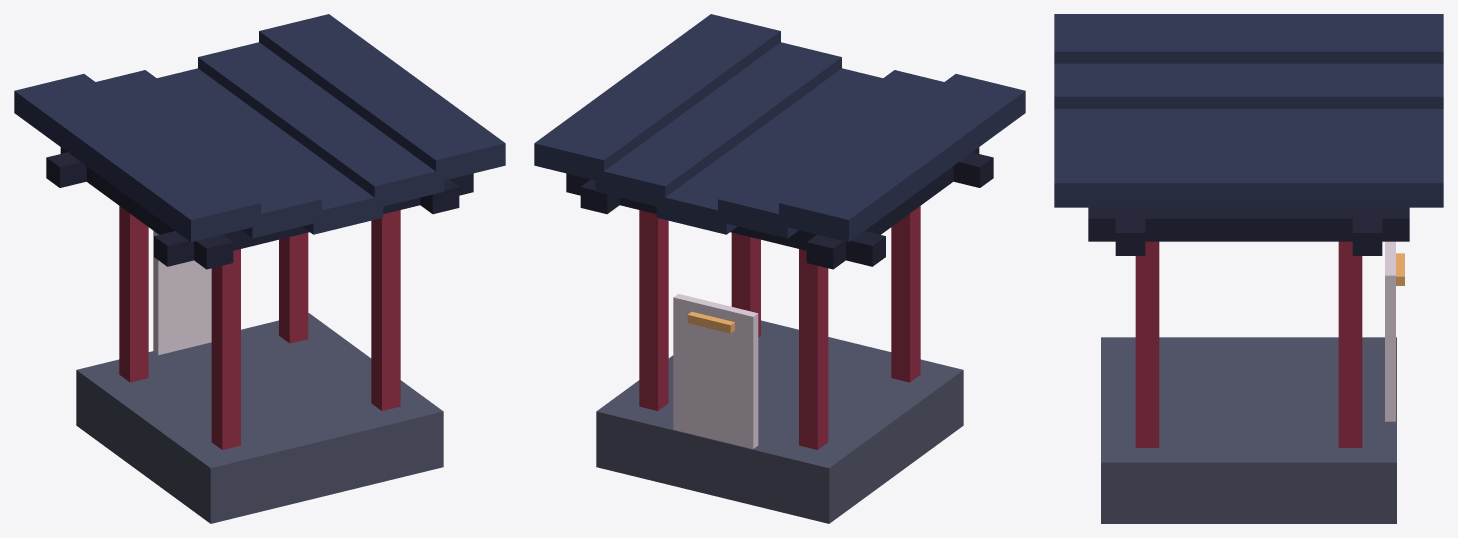
The model's file is shrine.obj.
The picture shows the model from 3 angles, left to right: view 1: azimuth 30°, elevation 25°; view 2: azimuth 150°, elevation 25°; view 3: azimuth 270°, elevation 25°; orthographic projection. The views are drawn at different scales.
Visible parts, largest first — view 1: KAGEBOUND_environment; view 2: KAGEBOUND_environment; view 3: KAGEBOUND_environment.
Part boxes in pixels (x1,y1,x2,y2): KAGEBOUND_environment: (14, 14, 505, 523); KAGEBOUND_environment: (534, 14, 1025, 523); KAGEBOUND_environment: (1054, 14, 1443, 523).
Bounding box in the file's own units: 4.73 × 4.73 × 4.6.
